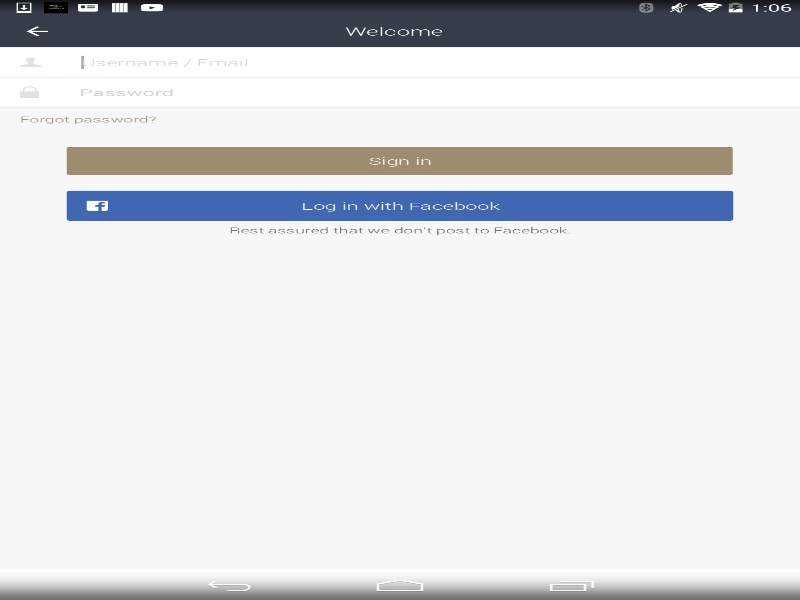Button: (66, 190, 733, 220), (66, 146, 733, 175), (0, 15, 74, 46)
Input: (39, 77, 760, 107), (41, 47, 760, 77)
